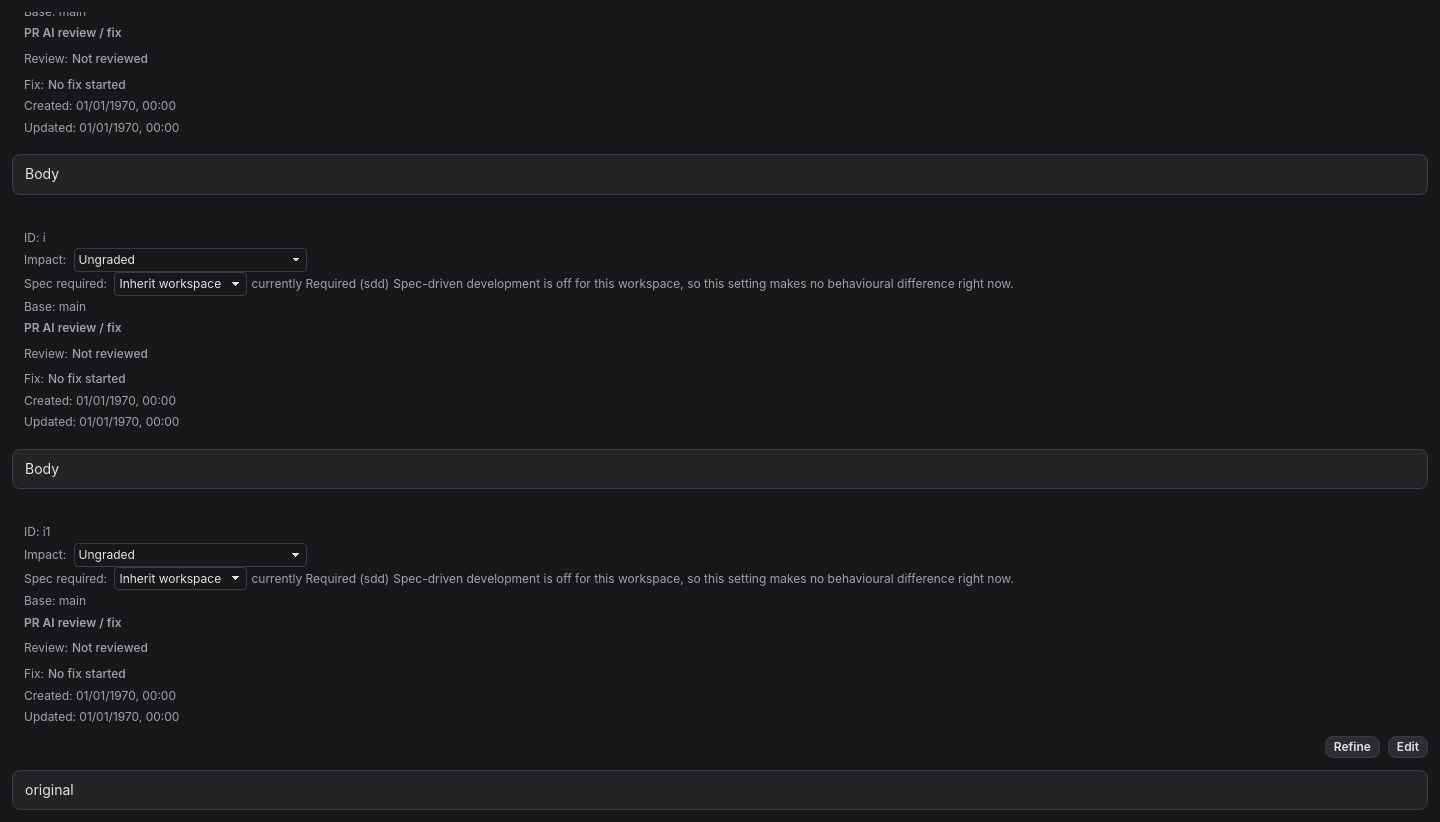
Test: IntentOverviewTab.vue › shows the Edit entry only for draft/todo and runs the save/cancel lifecycle
This screenshot has width=1440, height=822.
Click the button with test id "intent-detail-edit-content": coordinates (1408, 747) [1388,736,1428,758]
(page scrolled)
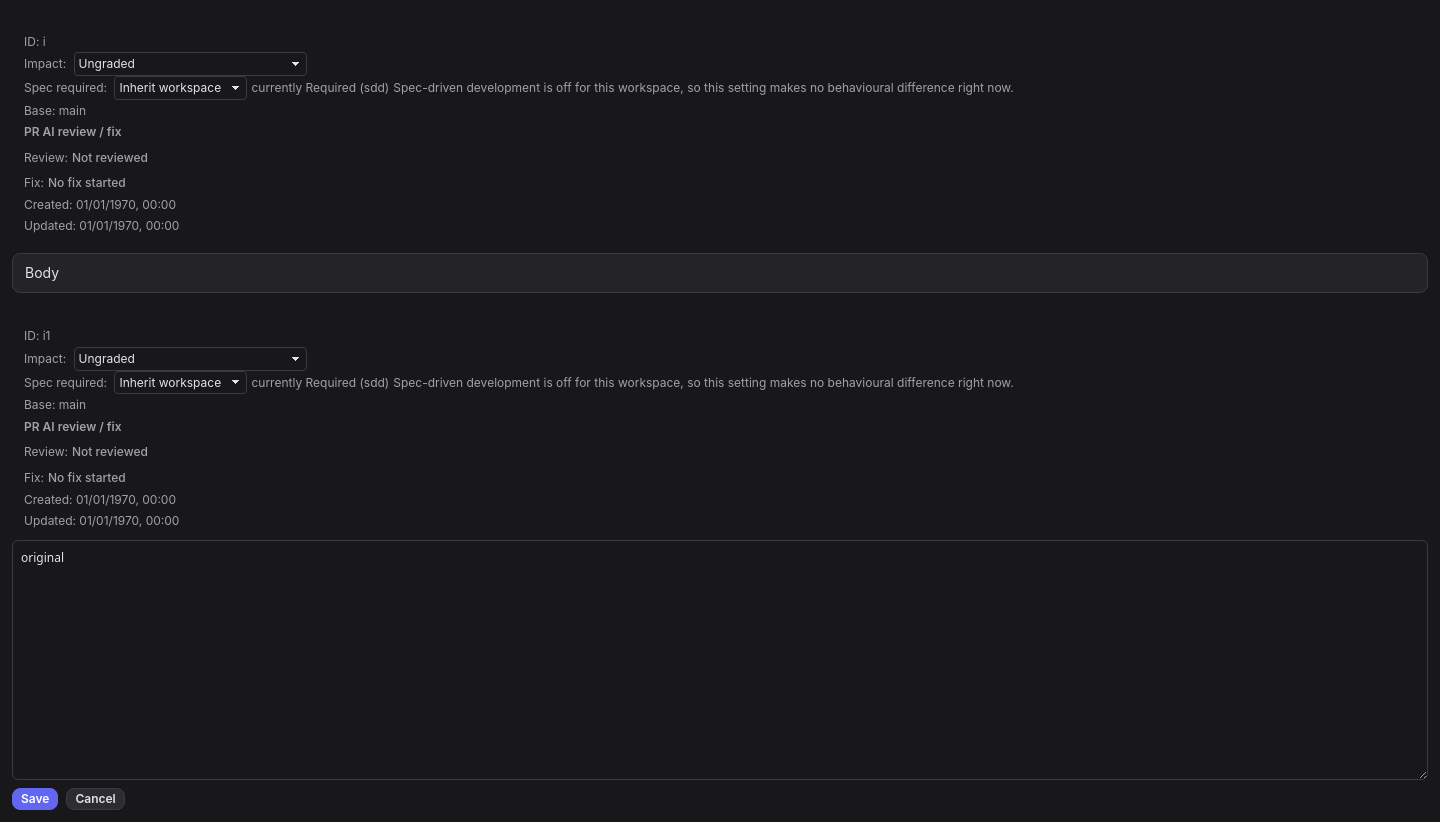
Now the text box with test id "intent-detail-content-textarea" holds "original"
Replace the text in the text box with test id "intent-detail-content-textarea" with "edited": coordinates (720, 660) [12,540,1428,780]
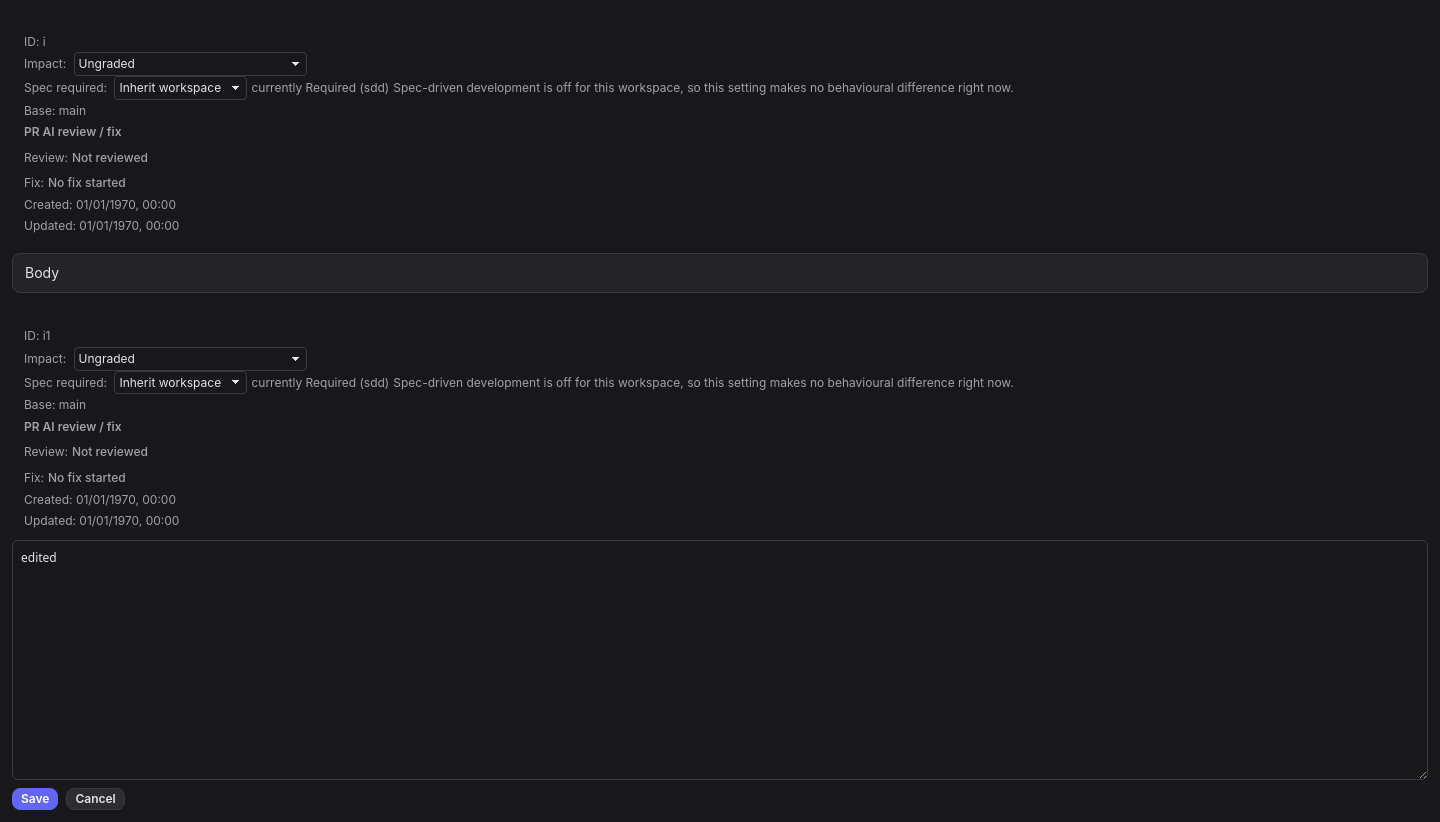
Click the button with test id "intent-detail-content-save": coordinates (35, 799) [12,788,58,810]
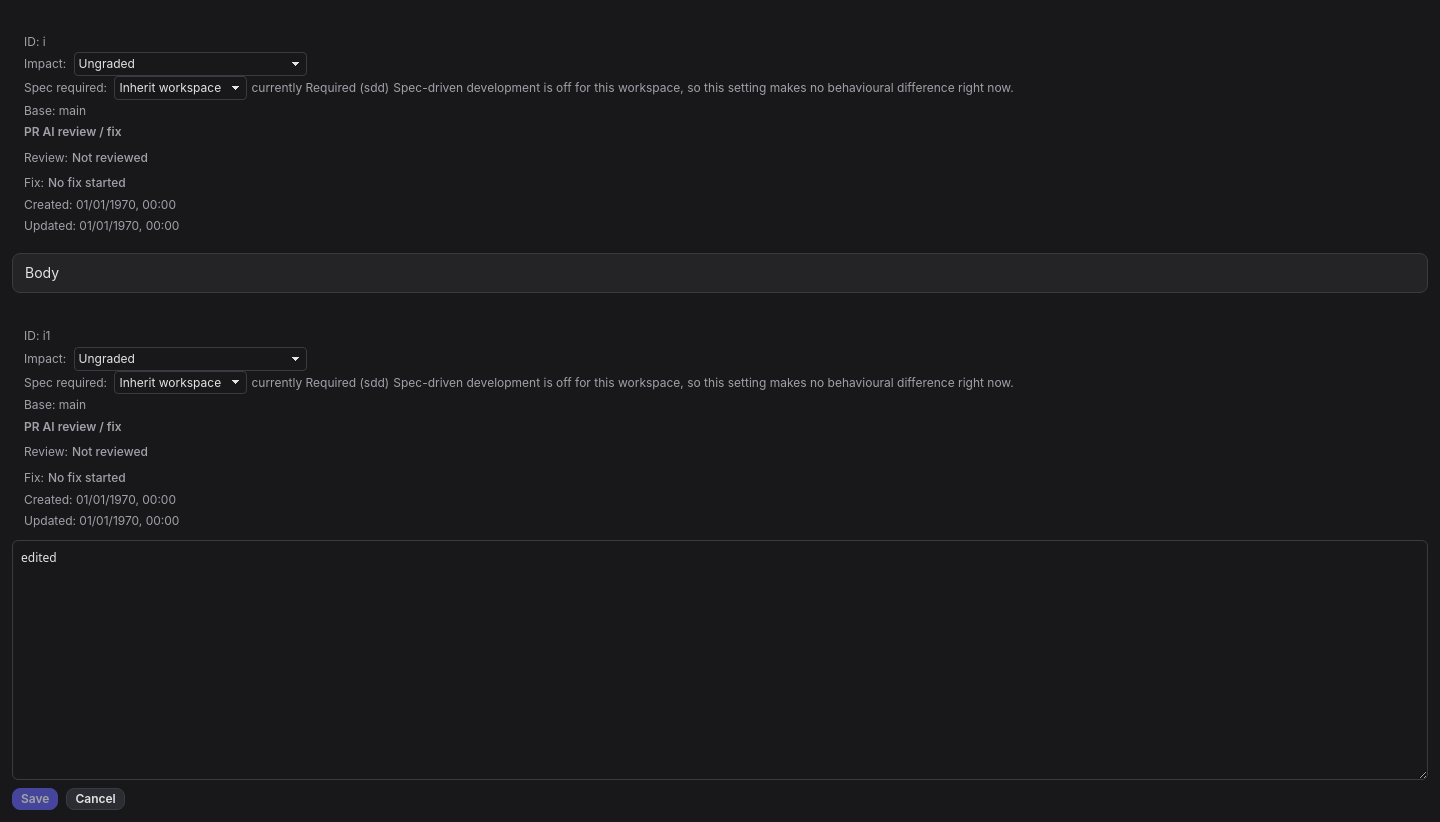
Now the button with test id "intent-detail-content-save" is disabled, box [12,788,58,810]
